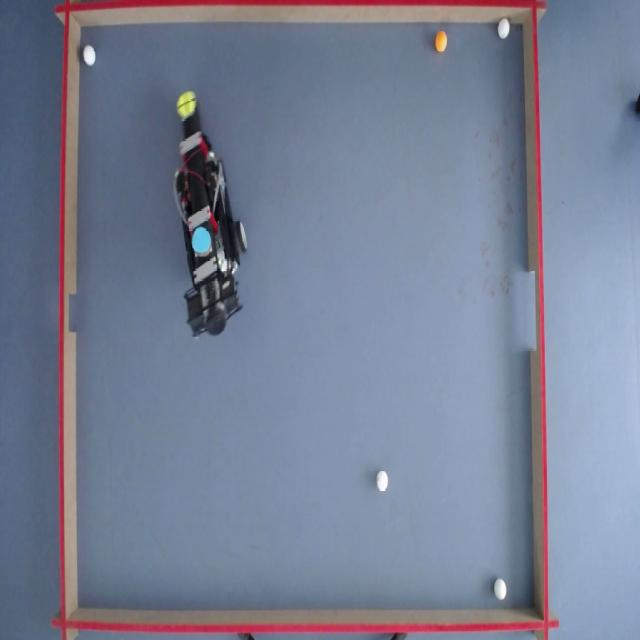orange: (435, 34, 449, 54)
robot: (172, 105, 251, 341)
robot-front: (176, 92, 198, 118)
robot-rear: (188, 223, 214, 257)
white: (495, 578, 509, 602), (498, 18, 512, 39), (83, 46, 97, 66), (376, 470, 388, 492)
